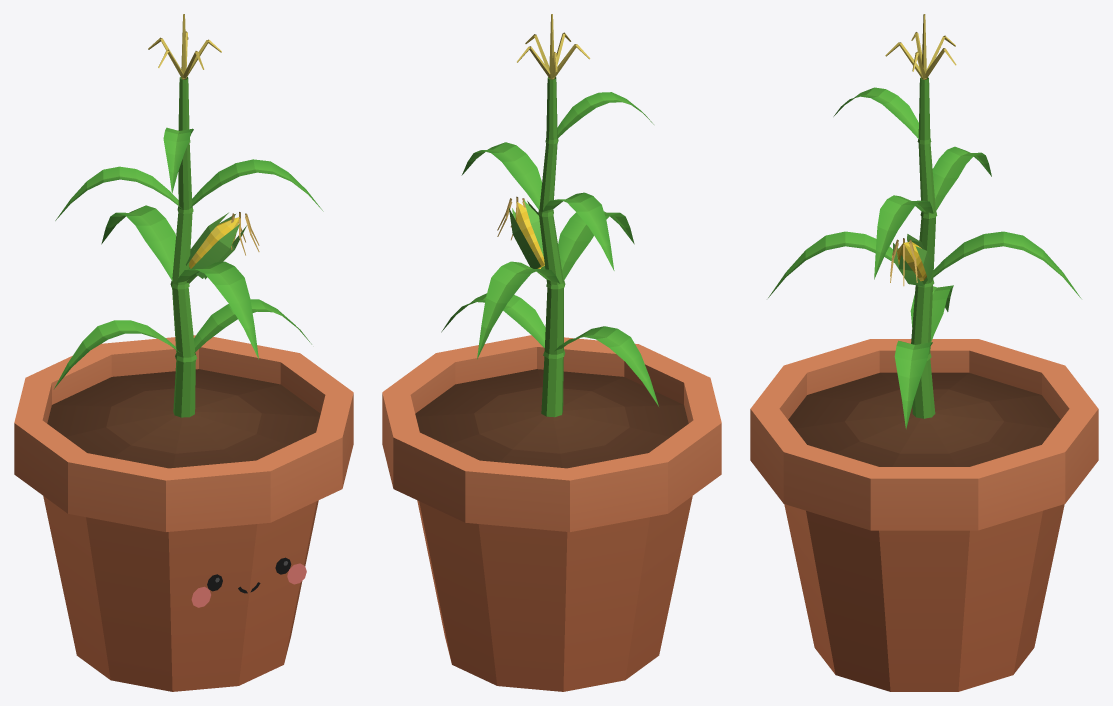
File: cute_corn_stage3.glb
3 views of the same model, side by side, from view 1: azimuth 30°, elevation 25°; view 2: azimuth 150°, elevation 25°; view 3: azimuth 270°, elevation 25° (orthographic).
Parts seen in each view (by area): view 1: CornPlant; view 2: CornPlant; view 3: CornPlant.
Part boxes in pixels (x1,y1,x2,y2): CornPlant: [14, 14, 353, 691]; CornPlant: [382, 14, 721, 691]; CornPlant: [750, 14, 1098, 691].
Size of the model in its own units: 0.3766 by 0.795 by 0.396.
